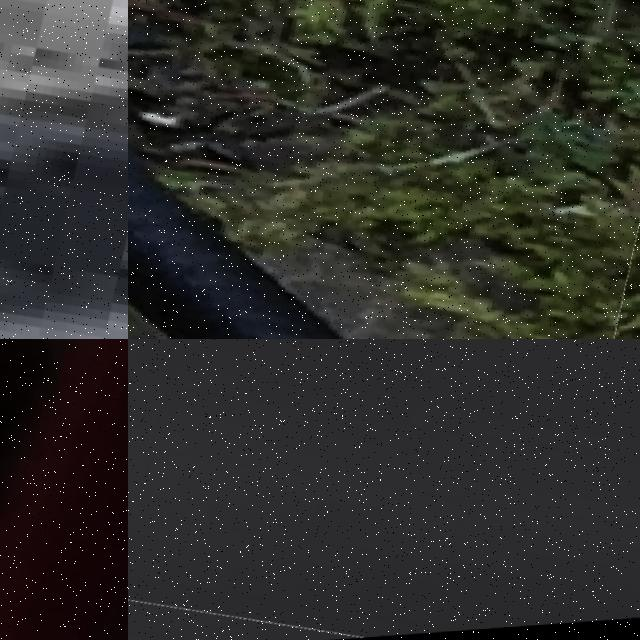0: (0, 0, 128, 339)
drone: (128, 0, 640, 339), (128, 339, 640, 640), (0, 339, 128, 640)
